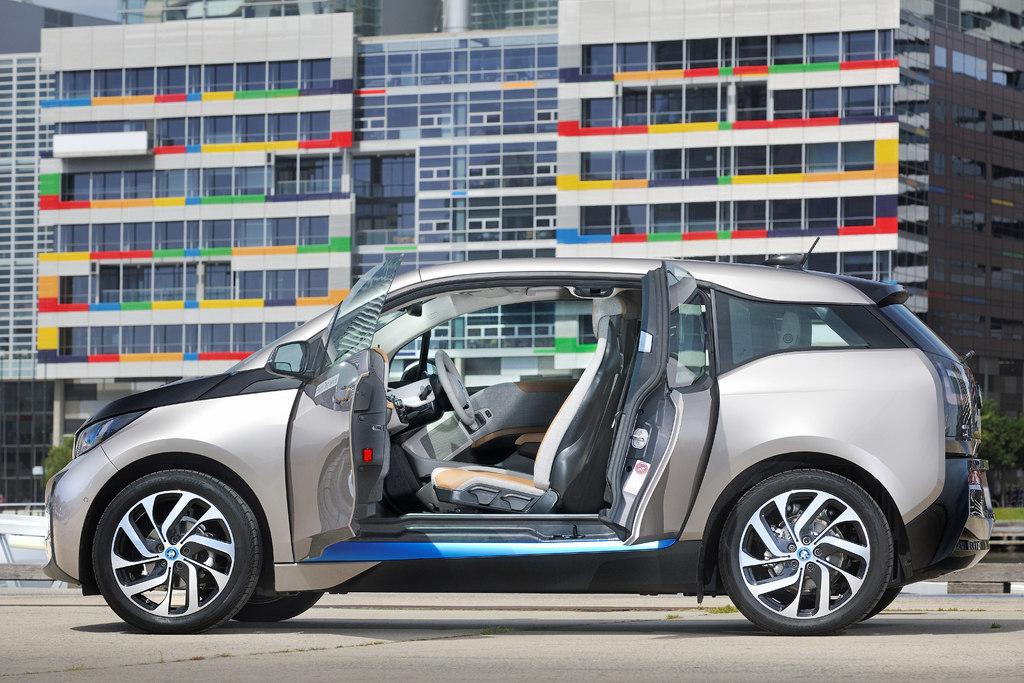Car: (42, 235, 1001, 645)
